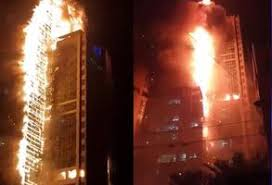fire: (18, 19, 87, 182), (166, 12, 236, 136)
